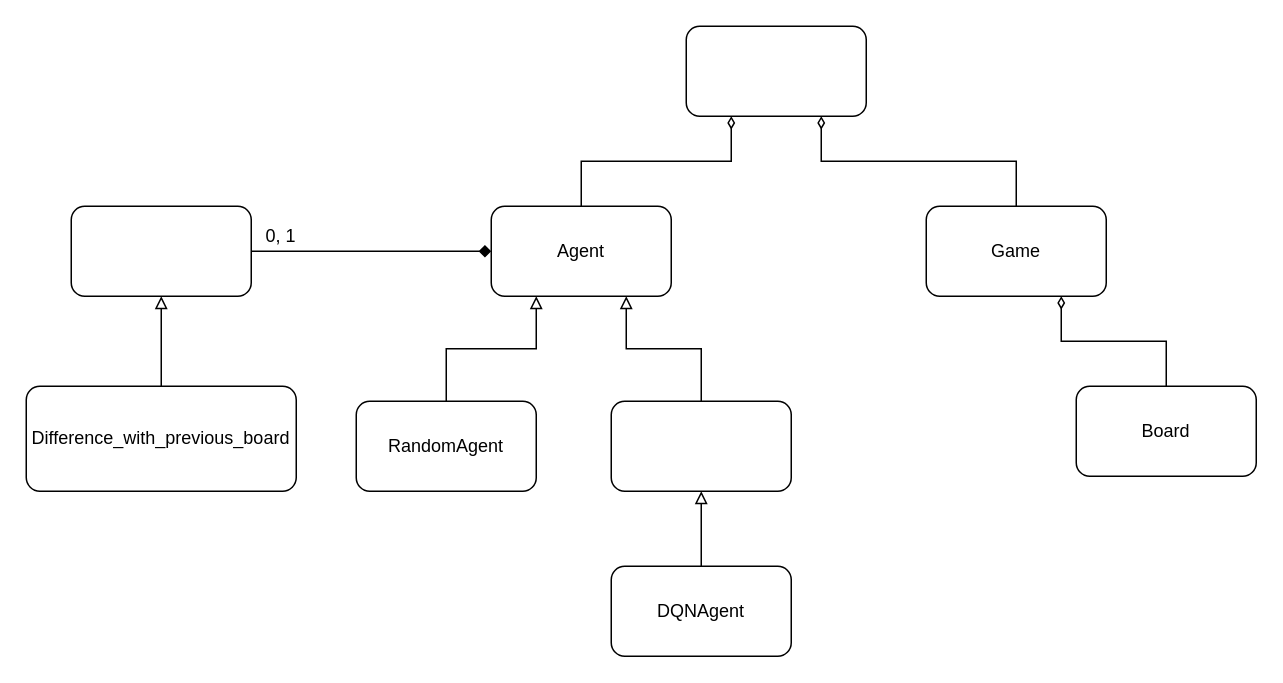
Some shapes in this 1283 by 683 pixel diagram are drawn without their labels. The centre of each missing label's shape, as x and y in pixels:
Immediate_reward: pixel 160 250
Main: pixel 775 70
TrainableAgent: pixel 700 445
